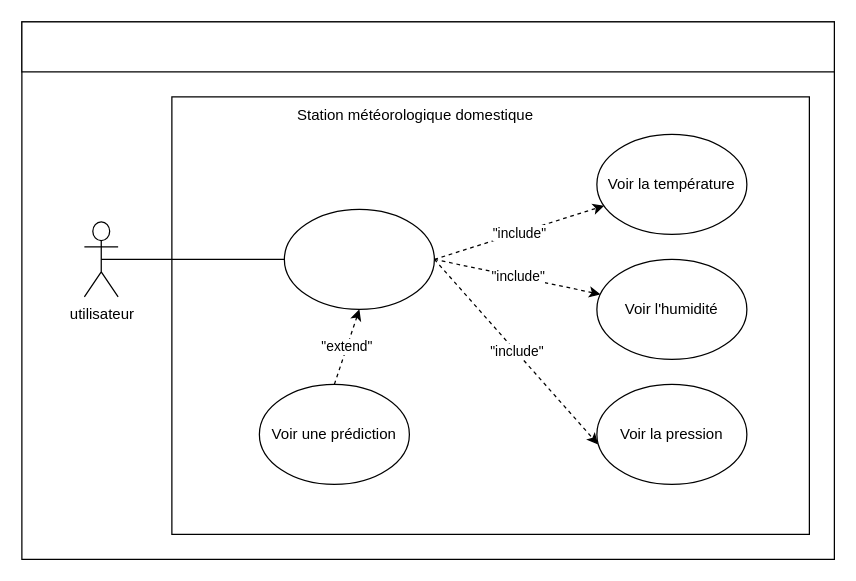
This 856x581 diagram has some shape labels left out. Here are the shapes that lost their labels. From the top down, the box of each, then its label:
(21, 21, 834, 72): Cas d'utilisation de la station météorologique
(283, 208, 434, 309): Connaître la météo
